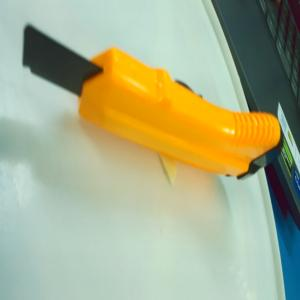estilete: (21, 23, 283, 181)
